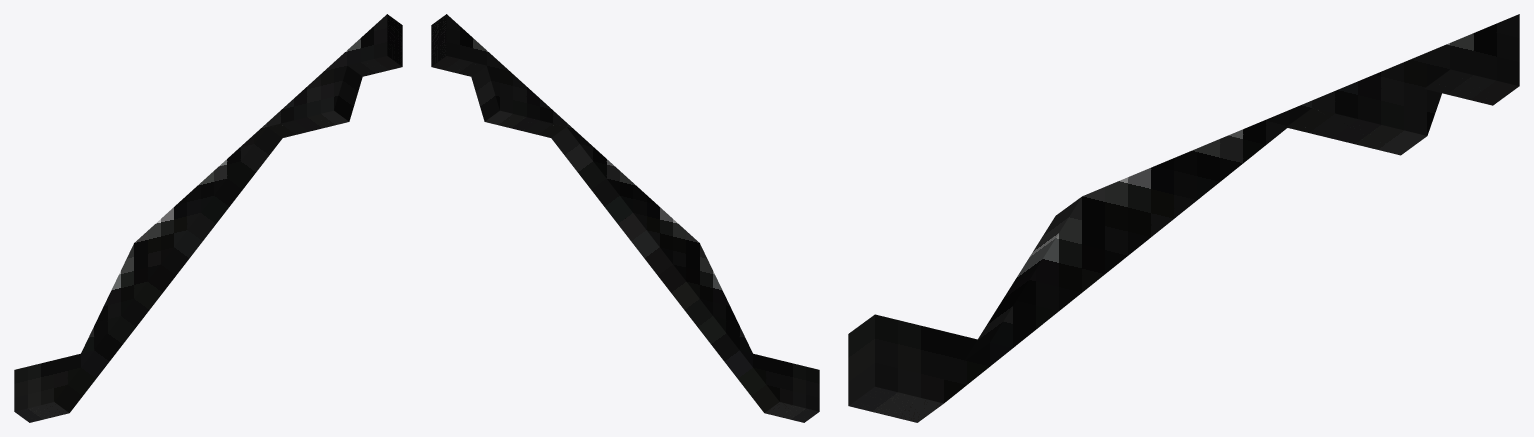
File: npcs_08.glb
The picture shows the model from 3 angles, left to right: view 1: azimuth 30°, elevation 25°; view 2: azimuth 150°, elevation 25°; view 3: azimuth 330°, elevation 25°; orthographic projection. The views are drawn at different scales.
Parts seen in each view (by area): view 1: world; view 2: world; view 3: world.
Part boxes in pixels (x1,y1,x2,y2): world: [14, 14, 402, 422]; world: [431, 14, 819, 422]; world: [848, 14, 1519, 422].
Bounding box in the file's own units: 0.28 × 0.22 × 0.02.
Materials: 1 (1 with a texture image).
